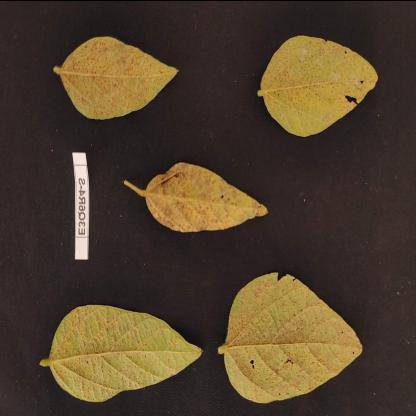label: (65, 143, 93, 266)
leaflets: (216, 257, 368, 404), (35, 295, 206, 402), (252, 27, 382, 144), (117, 153, 281, 240), (52, 26, 184, 126)
